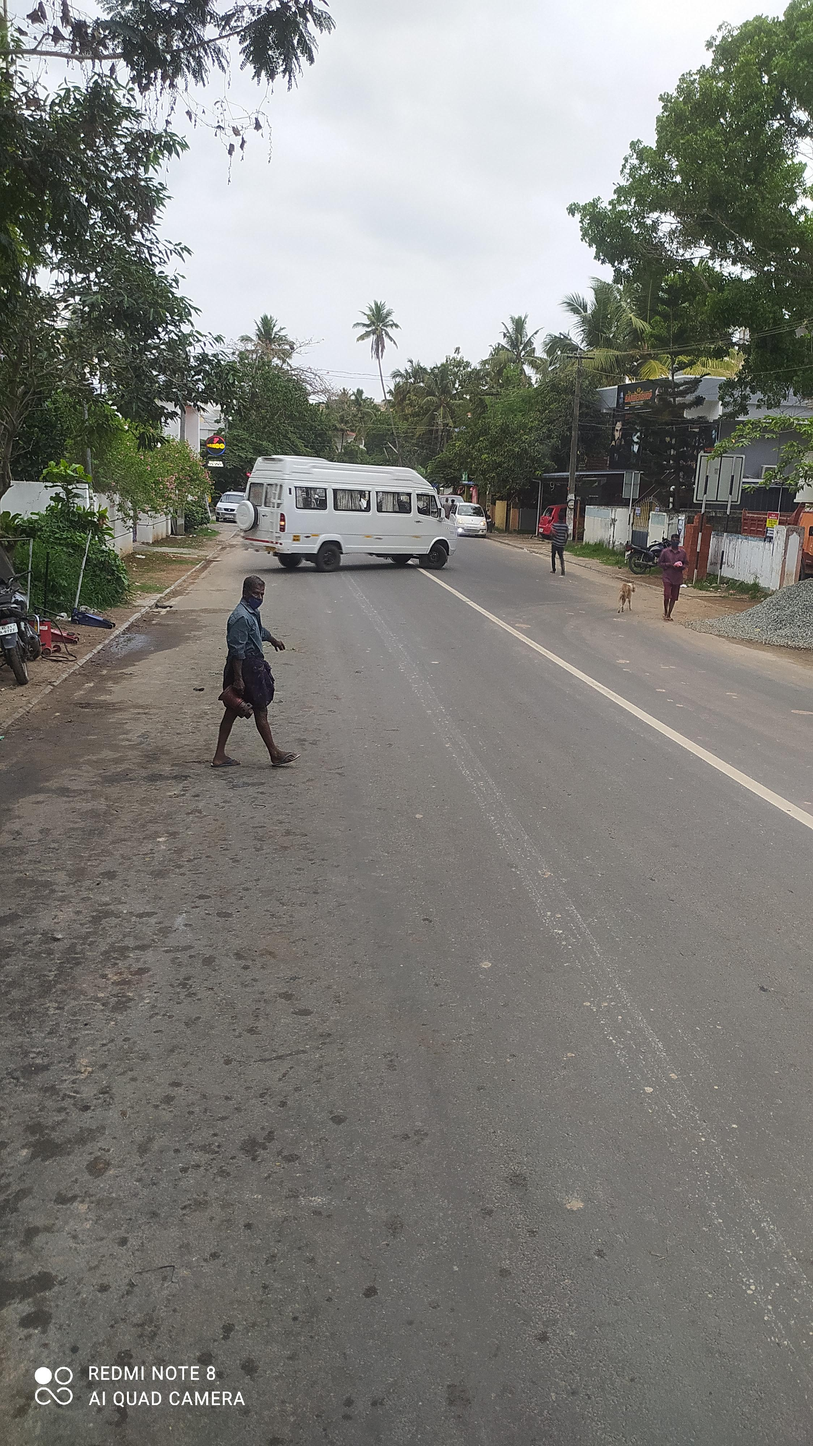Non-emergency: (218, 411, 466, 588)
